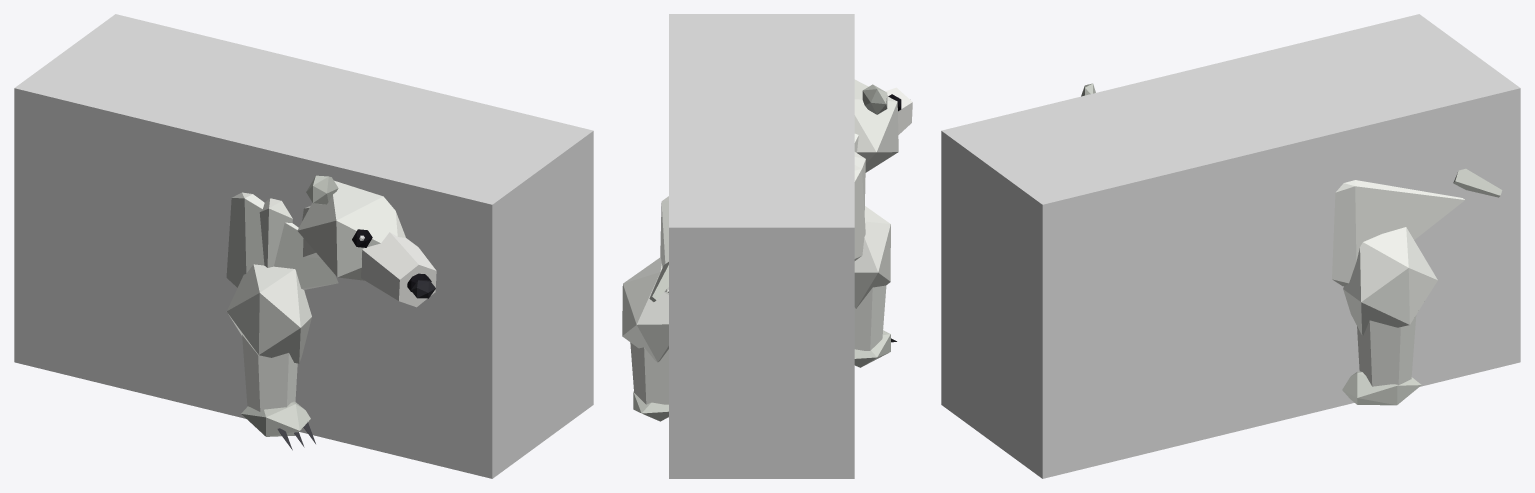
File: tundra_polar_bear.fbx
3 renders of one model, left to right at view 1: azimuth 30°, elevation 25°; view 2: azimuth 150°, elevation 25°; view 3: azimuth 270°, elevation 25°, orthographic. The views are drawn at different scales.
Parts seen in each view (by area): view 1: Root__0.03_3.25_-0.85__4.35_6.50_11.86, Head__Body__0.00_4.53_-2.12, LegFR__Body__1.29_2.73_-2.36, Body__Root__0.00_4.14_0.00; view 2: Root__0.03_3.25_-0.85__4.35_6.50_11.86, LegBL__Body__-1.29_2.73_2.57, LegFR__Body__1.29_2.73_-2.36, Head__Body__0.00_4.53_-2.12, Body__Root__0.00_4.14_0.00, Tail__Body__0.00_4.78_4.07; view 3: Root__0.03_3.25_-0.85__4.35_6.50_11.86, LegBL__Body__-1.29_2.73_2.57, Body__Root__0.00_4.14_0.00, Tail__Body__0.00_4.78_4.07.
Boxes of the visible parts, box(x1,y1,x2,y2) form: Root__0.03_3.25_-0.85__4.35_6.50_11.86: box(14, 14, 593, 478); Head__Body__0.00_4.53_-2.12: box(297, 175, 436, 307); LegFR__Body__1.29_2.73_-2.36: box(226, 264, 315, 450); Body__Root__0.00_4.14_0.00: box(226, 192, 338, 289); Root__0.03_3.25_-0.85__4.35_6.50_11.86: box(669, 14, 854, 478); LegBL__Body__-1.29_2.73_2.57: box(622, 257, 668, 421); LegFR__Body__1.29_2.73_-2.36: box(854, 206, 896, 367); Head__Body__0.00_4.53_-2.12: box(854, 79, 912, 172); Body__Root__0.00_4.14_0.00: box(660, 152, 865, 294); Tail__Body__0.00_4.78_4.07: box(649, 262, 668, 301); Root__0.03_3.25_-0.85__4.35_6.50_11.86: box(941, 14, 1520, 478); LegBL__Body__-1.29_2.73_2.57: box(1342, 227, 1437, 405); Body__Root__0.00_4.14_0.00: box(1332, 180, 1464, 286); Tail__Body__0.00_4.78_4.07: box(1453, 168, 1502, 197).
Bounding box in the file's own units: 272 × 182 × 349.
Materials: 1 (1 with a texture image).
